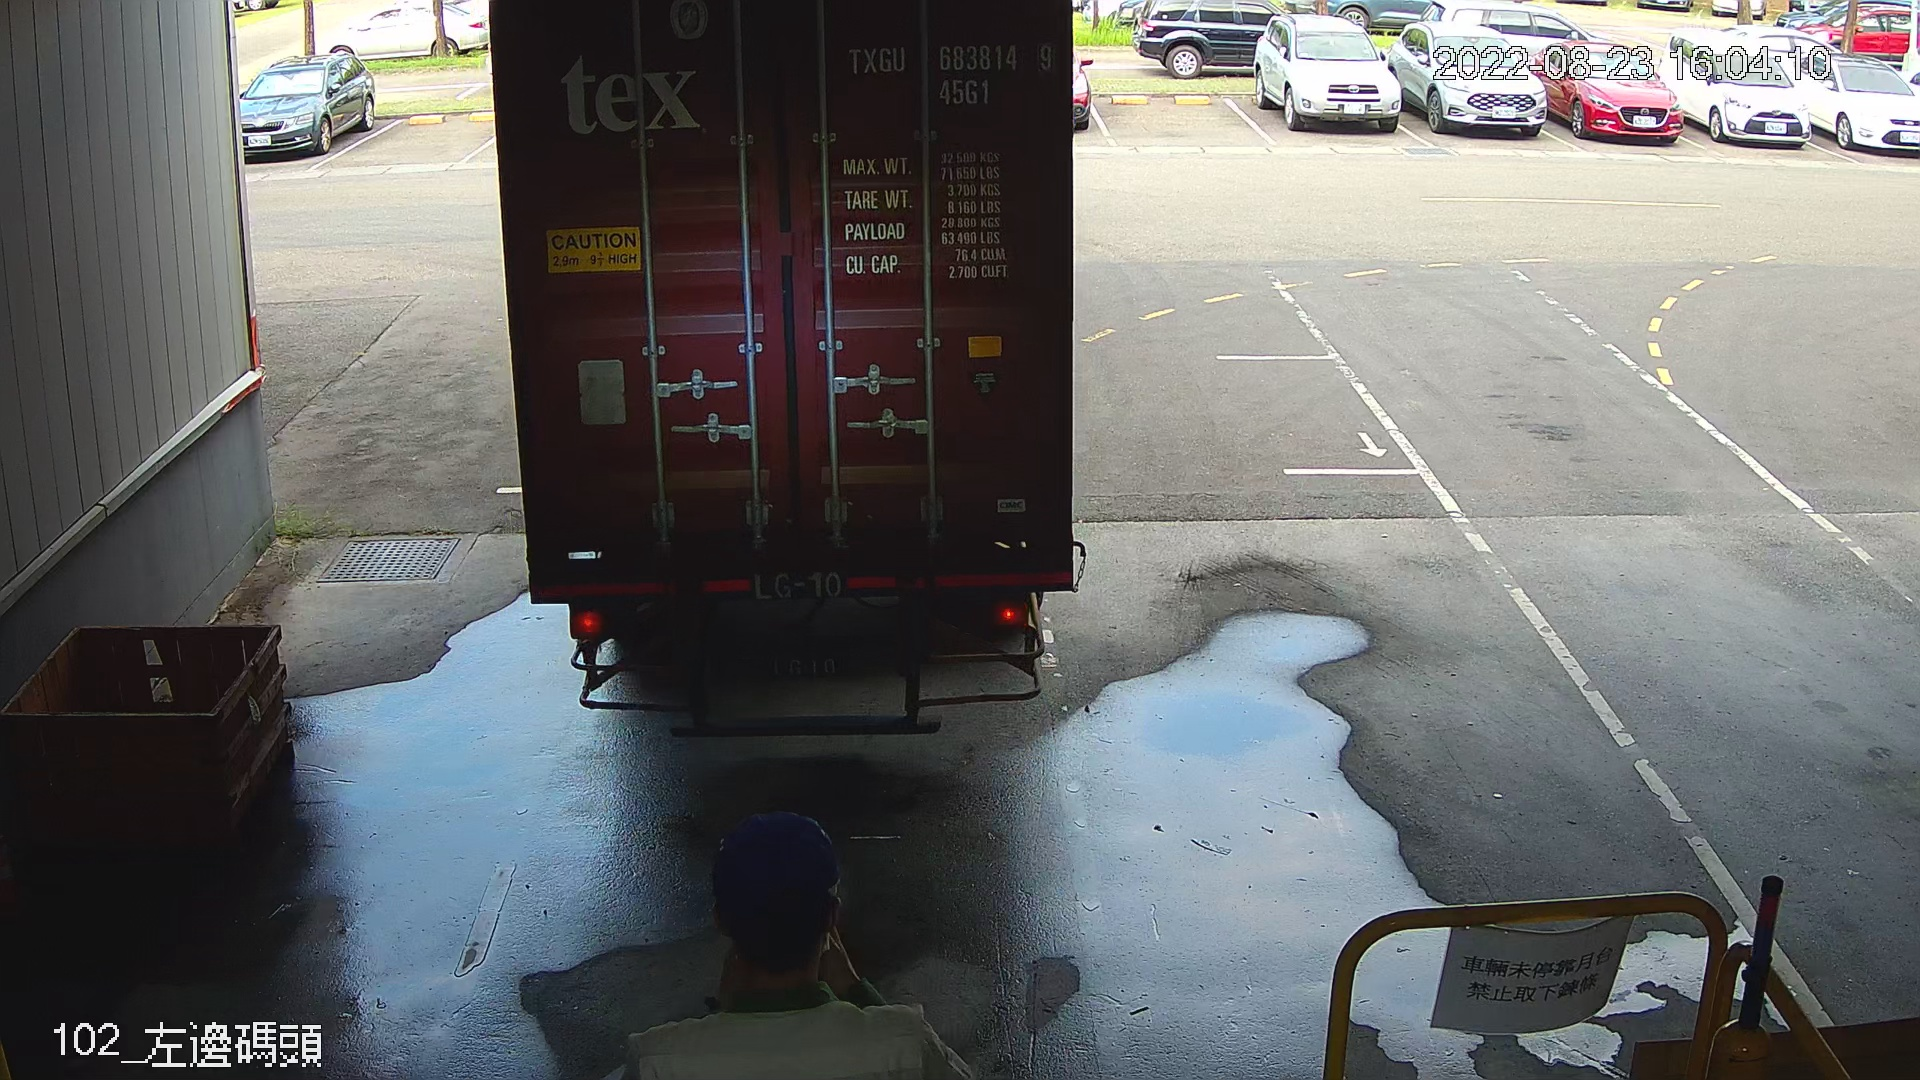container: (841, 32, 1063, 113)
